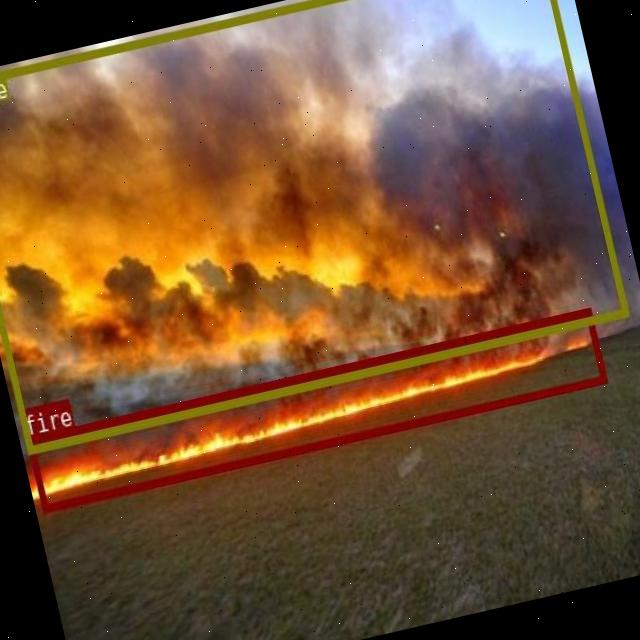fire: (24, 306, 606, 510)
smoke: (0, 0, 626, 451)
